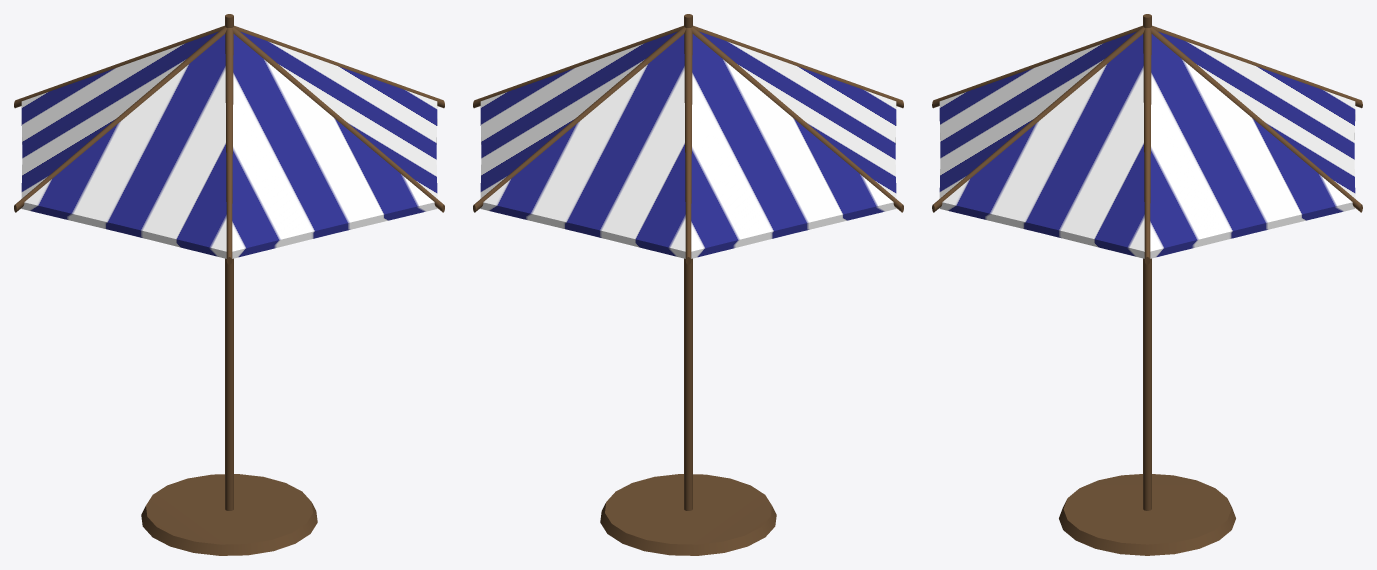
The model's file is MM_Umbrella.fbx.
3 views of the same model, side by side, from view 1: azimuth 30°, elevation 25°; view 2: azimuth 150°, elevation 25°; view 3: azimuth 270°, elevation 25° (orthographic).
Parts seen in each view (by area): view 1: MM_Umbrella; view 2: MM_Umbrella; view 3: MM_Umbrella.
Boxes of the visible parts, x1,y1,x2,y2 form: MM_Umbrella: (14,14,444,555); MM_Umbrella: (473,14,903,555); MM_Umbrella: (932,14,1362,555).
Bounding box in the file's own units: 225 × 252 × 196.
